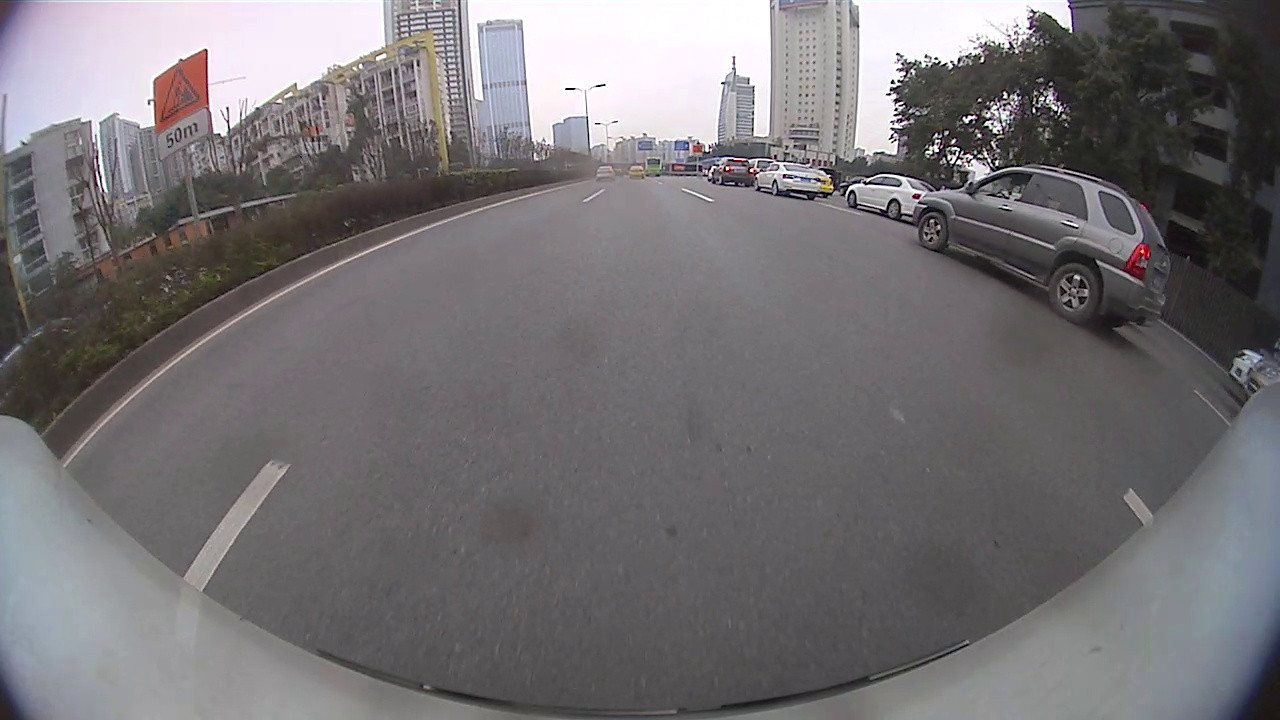bus: (644, 156, 663, 179)
car: (914, 165, 1171, 326), (845, 173, 935, 219), (755, 163, 823, 201), (1246, 354, 1278, 400), (1229, 348, 1266, 384), (713, 158, 753, 188), (809, 166, 834, 197), (837, 176, 870, 197), (750, 158, 775, 177), (595, 165, 617, 182), (627, 164, 645, 180)
front: (915, 211, 950, 251), (846, 192, 861, 210)
rear: (1048, 263, 1101, 327), (887, 199, 905, 221), (771, 181, 782, 198)
